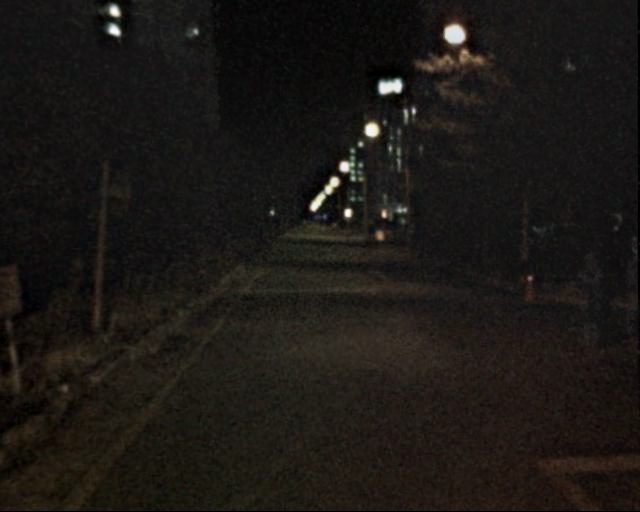person: (571, 243, 615, 360), (627, 235, 640, 362)
